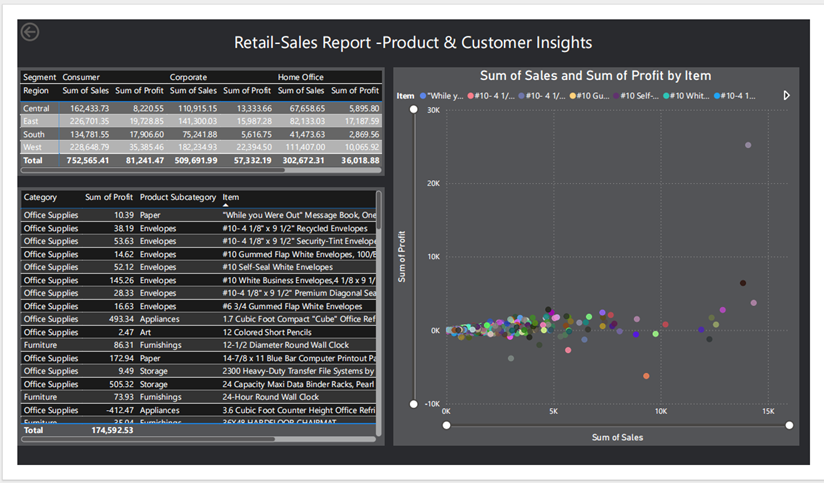

What the dashboard file says about the page in this screenshot:
{"tool":"powerbi","page":{"name":" Product & Customer Insights","canvas":[1280,720],"ordinal":2},"visuals":[{"type":"tableEx","fields":{"Values":["Sales.Category","Sum(Sales.Profit)","Sales.Product Subcategory","Sales.Item"]},"box":[0,271.7,593.3,416.7],"z":0},{"type":"scatterChart","fields":{"X":["Sum(Sales.Sales)"],"Y":["Sum(Sales.Profit)"],"Series":["Sales.Item"]},"box":[608.3,78.3,653.3,610],"z":1000},{"type":"pivotTable","fields":{"Rows":["Sales.Region"],"Columns":["Sales.Segment"],"Values":["Sum(Sales.Sales)","Sum(Sales.Profit)"]},"box":[0,78.3,593.3,175],"z":2000},{"type":"actionButton","box":[0,0,100,40],"z":3000},{"type":"textbox","box":[316.7,11.7,646.7,101.7],"z":3002}]}

Visuals, with their boxes on the page's 1280x720 design canvas (x1, y1, x2, y2). These are canvas units, not pixel positions in the 824x483 screenshot, which may show the page scaled, cropped or inside an application window:
tableEx - Sales.Category x Sum(Sales.Profit): BBox(0, 272, 593, 688)
scatterChart - Sum(Sales.Sales) x Sum(Sales.Profit): BBox(608, 78, 1262, 688)
pivotTable - Sales.Region x Sales.Segment: BBox(0, 78, 593, 253)
actionButton: BBox(0, 0, 100, 40)
textbox: BBox(317, 12, 963, 113)
